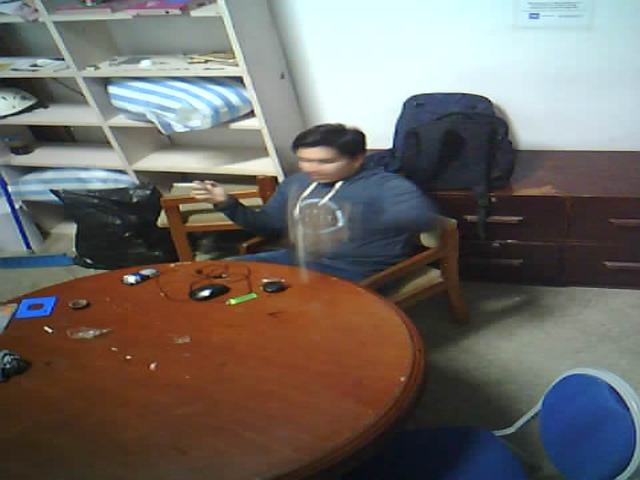person: (175, 84, 464, 321)
